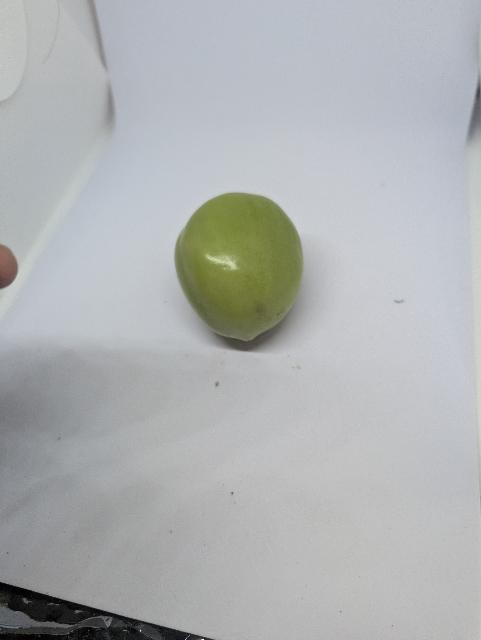green: (172, 190, 307, 345)
